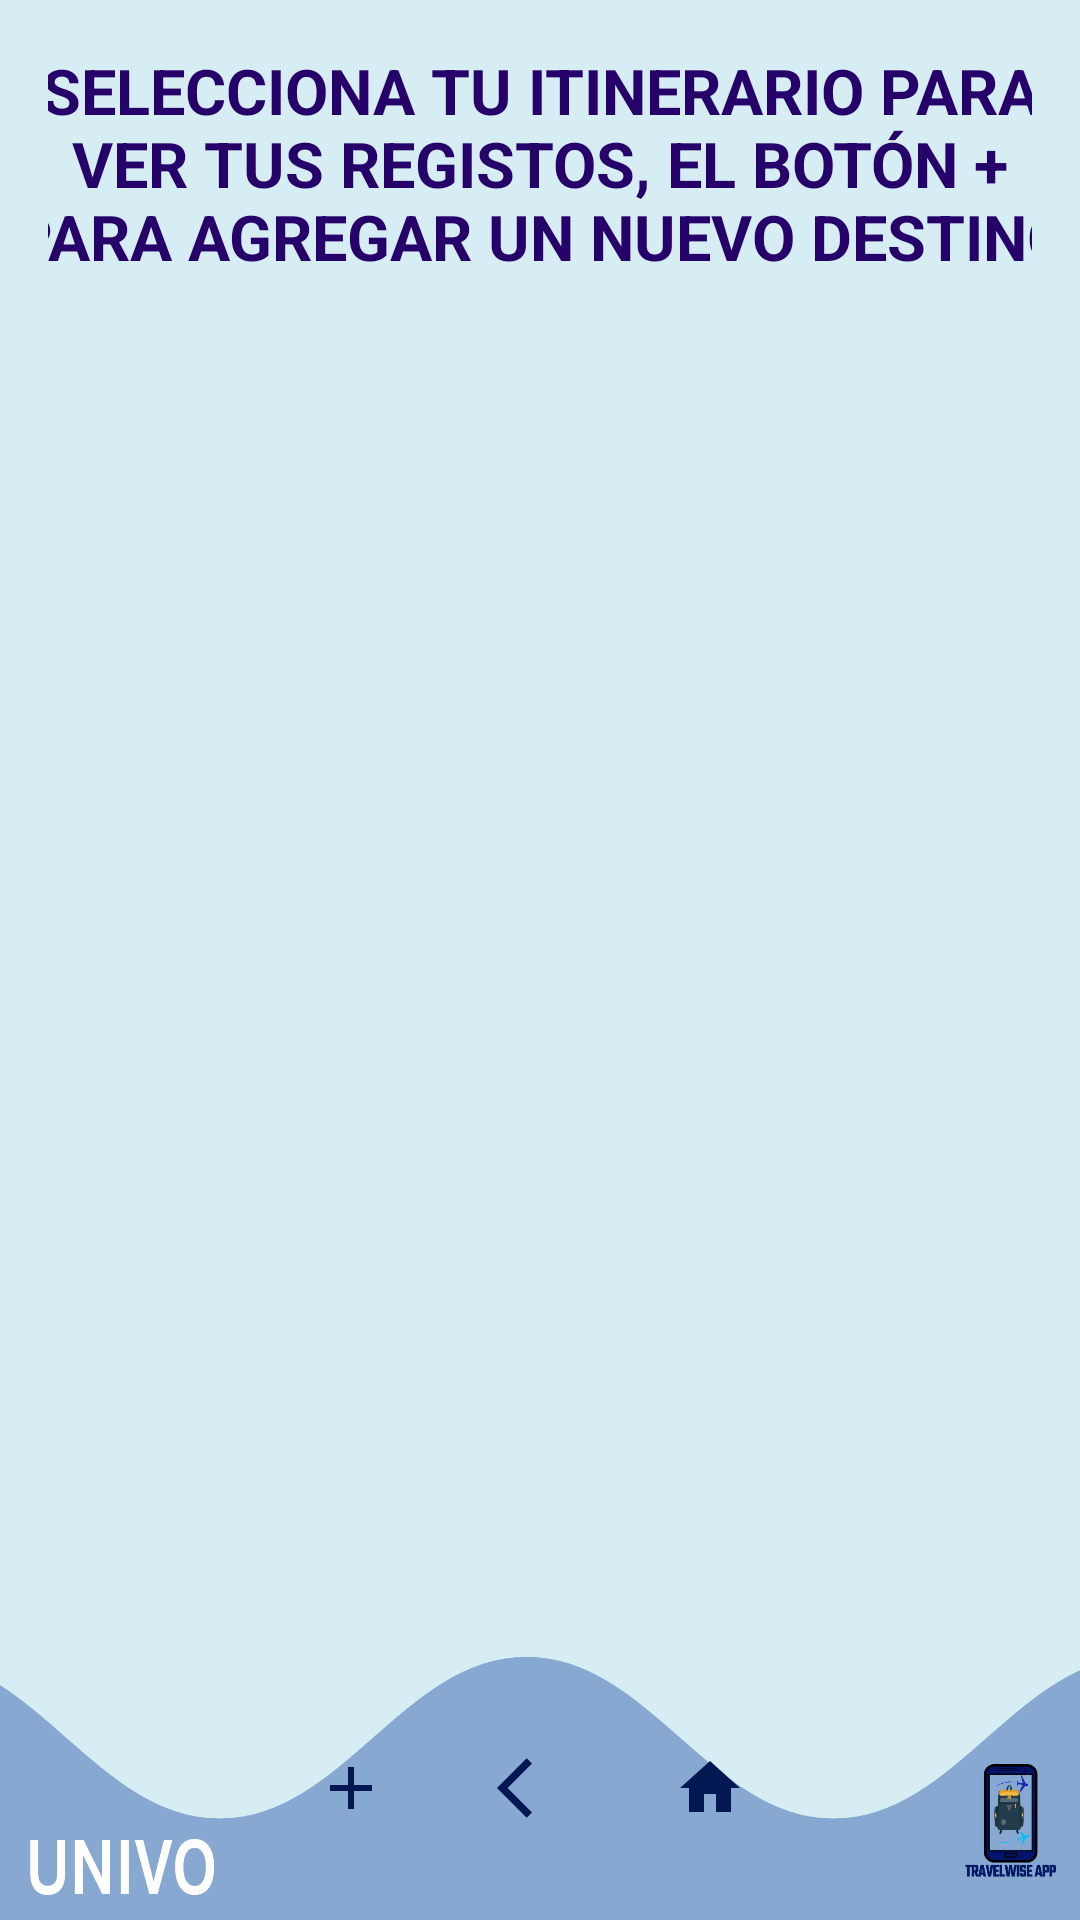

Icons on this 1080w x 1920h Android screen, each with its box as bbox=[x1, y1, x2, y2]:
back: bbox=[497, 1758, 532, 1818]
